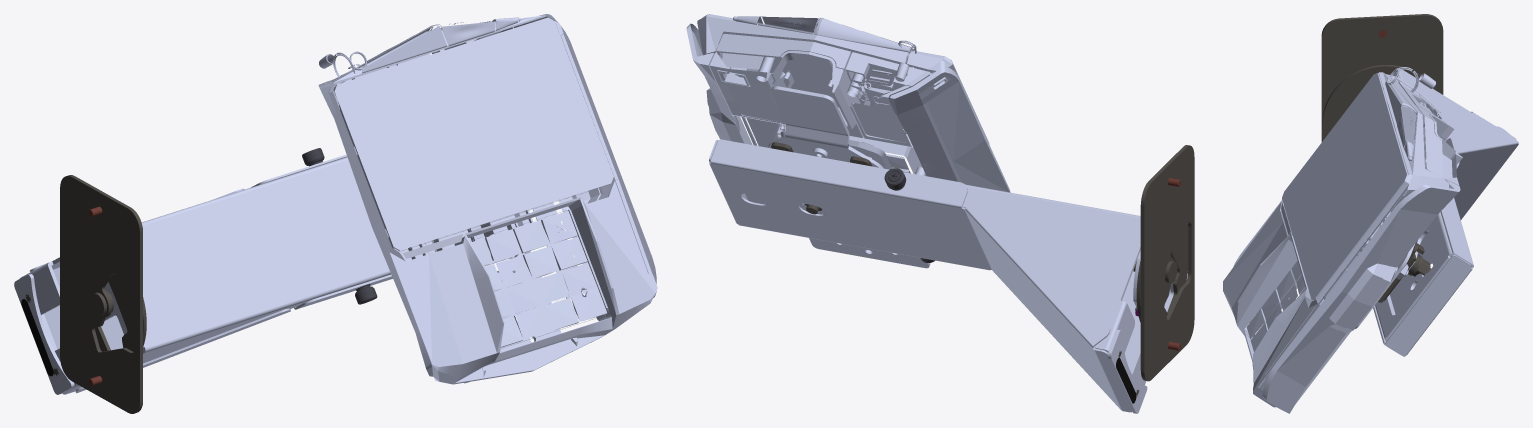
Rendered from BristolDec2020.glb.
The picture shows the model from 3 angles, left to right: view 1: azimuth 30°, elevation 25°; view 2: azimuth 150°, elevation 25°; view 3: azimuth 270°, elevation 25°; orthographic projection. The views are drawn at different scales.
Parts seen in each view (by area): view 1: mesh 3 HYB2_EFT2_SIDE_CVR_PL1_ASM-1/HYB2_EFT2_SIDE_CVR_PL1-1, mesh 1 HYB2_EFT2_SIDE_CVR_PL1_ASM-1/FH-M3-10-1, mesh 6 HYB2_EFT2_SIDE_CVR_PL2_ASM-1/HYB2_EFT2_SIDE_CVR_PL2-1, mesh 5 HYB2_EFT2_SIDE_CVR_PL1_ASM-1/FH-M4-8-2; view 2: mesh 3 HYB2_EFT2_SIDE_CVR_PL1_ASM-1/HYB2_EFT2_SIDE_CVR_PL1-1, mesh 1 HYB2_EFT2_SIDE_CVR_PL1_ASM-1/FH-M3-10-1; view 3: mesh 3 HYB2_EFT2_SIDE_CVR_PL1_ASM-1/HYB2_EFT2_SIDE_CVR_PL1-1, mesh 1 HYB2_EFT2_SIDE_CVR_PL1_ASM-1/FH-M3-10-1.
Part boxes in pixels (x1,y1,x2,y2): mesh 3 HYB2_EFT2_SIDE_CVR_PL1_ASM-1/HYB2_EFT2_SIDE_CVR_PL1-1: (14, 14, 657, 394); mesh 1 HYB2_EFT2_SIDE_CVR_PL1_ASM-1/FH-M3-10-1: (25, 175, 146, 413); mesh 6 HYB2_EFT2_SIDE_CVR_PL2_ASM-1/HYB2_EFT2_SIDE_CVR_PL2-1: (302, 148, 377, 304); mesh 5 HYB2_EFT2_SIDE_CVR_PL1_ASM-1/FH-M4-8-2: (21, 299, 53, 376); mesh 3 HYB2_EFT2_SIDE_CVR_PL1_ASM-1/HYB2_EFT2_SIDE_CVR_PL1-1: (686, 14, 1173, 413); mesh 1 HYB2_EFT2_SIDE_CVR_PL1_ASM-1/FH-M3-10-1: (771, 142, 1194, 396); mesh 3 HYB2_EFT2_SIDE_CVR_PL1_ASM-1/HYB2_EFT2_SIDE_CVR_PL1-1: (1223, 67, 1518, 413); mesh 1 HYB2_EFT2_SIDE_CVR_PL1_ASM-1/FH-M3-10-1: (1321, 14, 1443, 303).
Bounding box in the file's own units: 0.2087 × 0.1197 × 0.1144.
